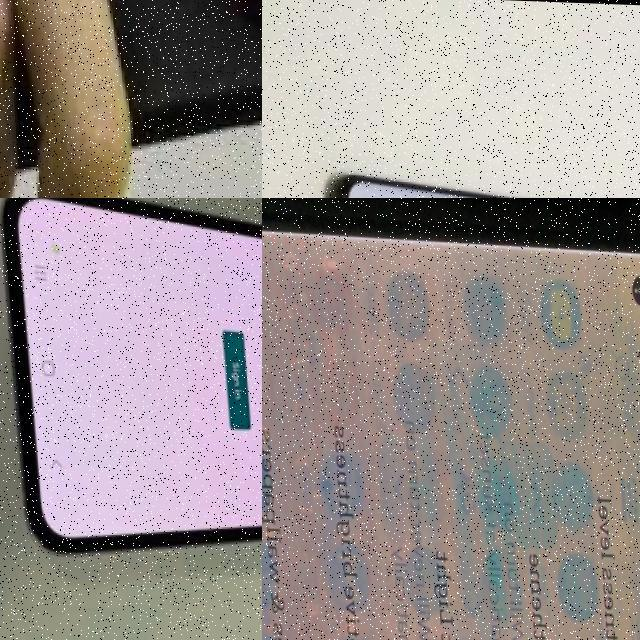dead pixel: (39, 231, 67, 271), (520, 176, 547, 198)
